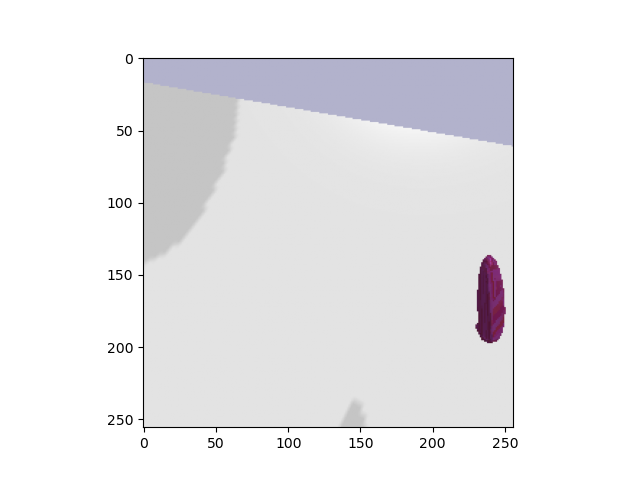v249b387_105: (469, 253, 510, 346)
